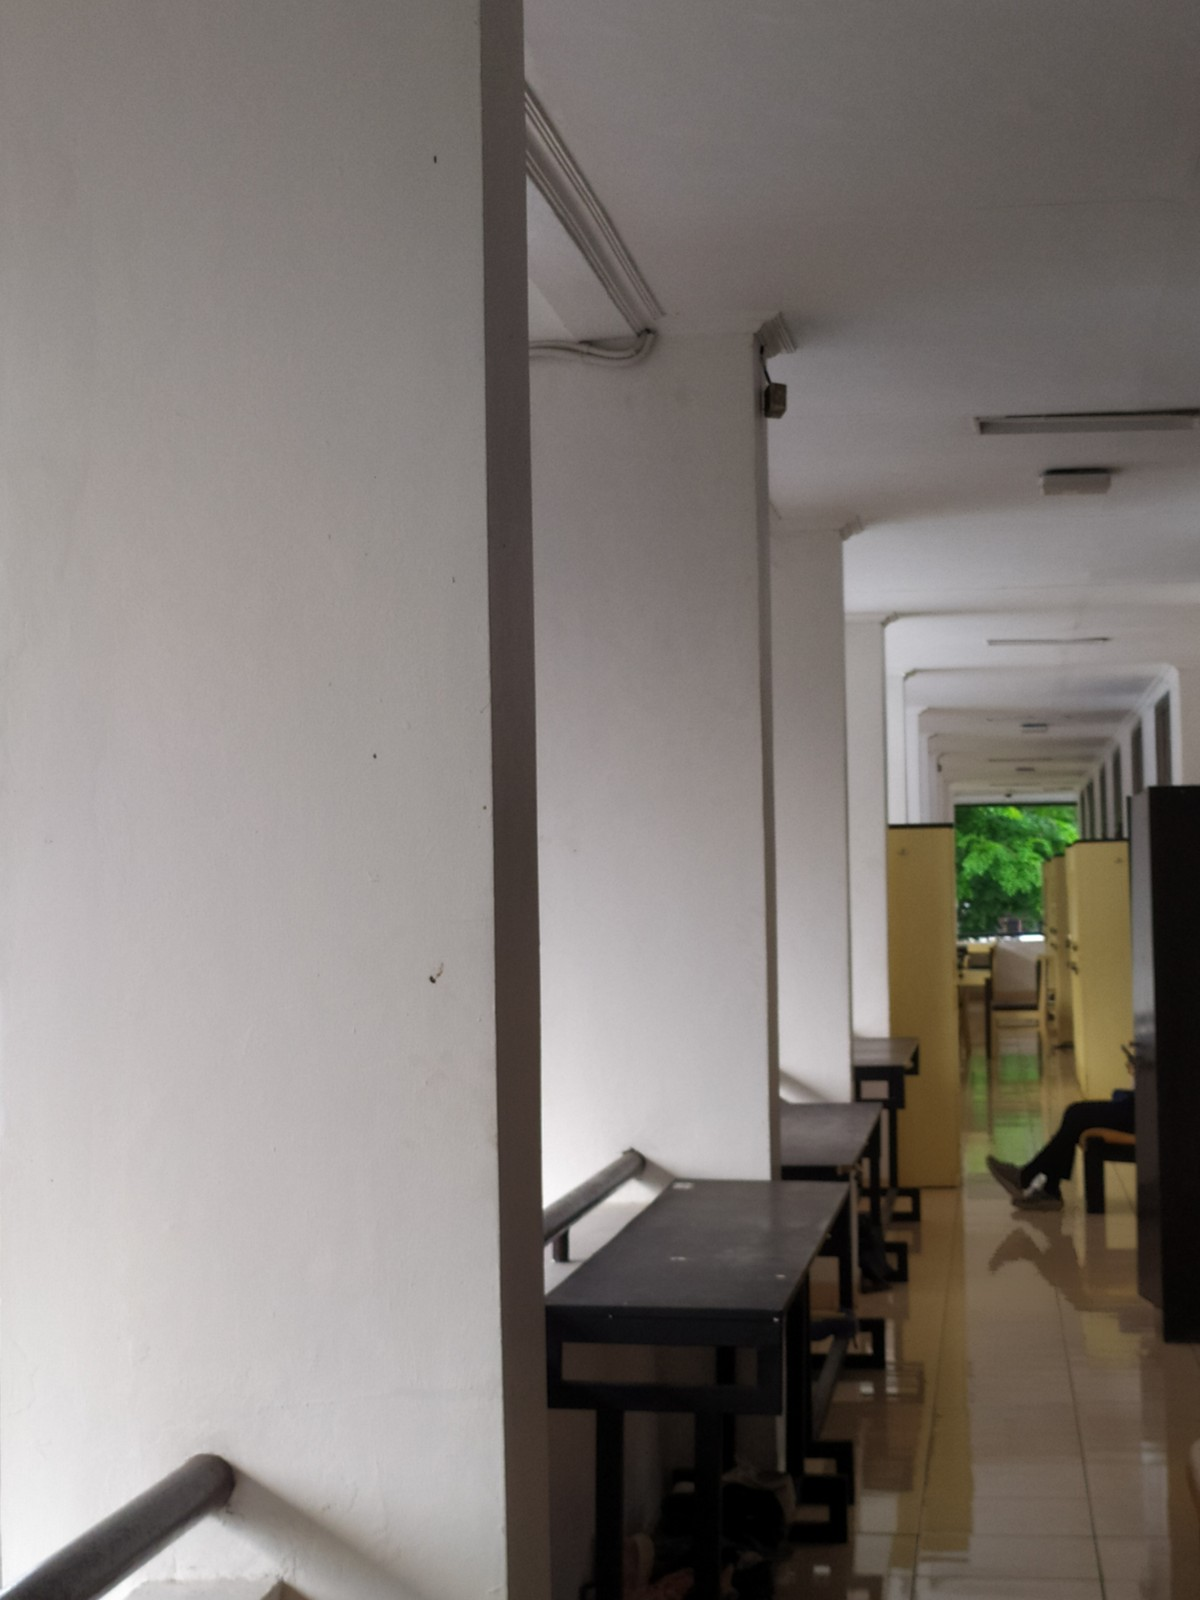concrete column: (11, 25, 565, 1560), (534, 299, 792, 1193)
